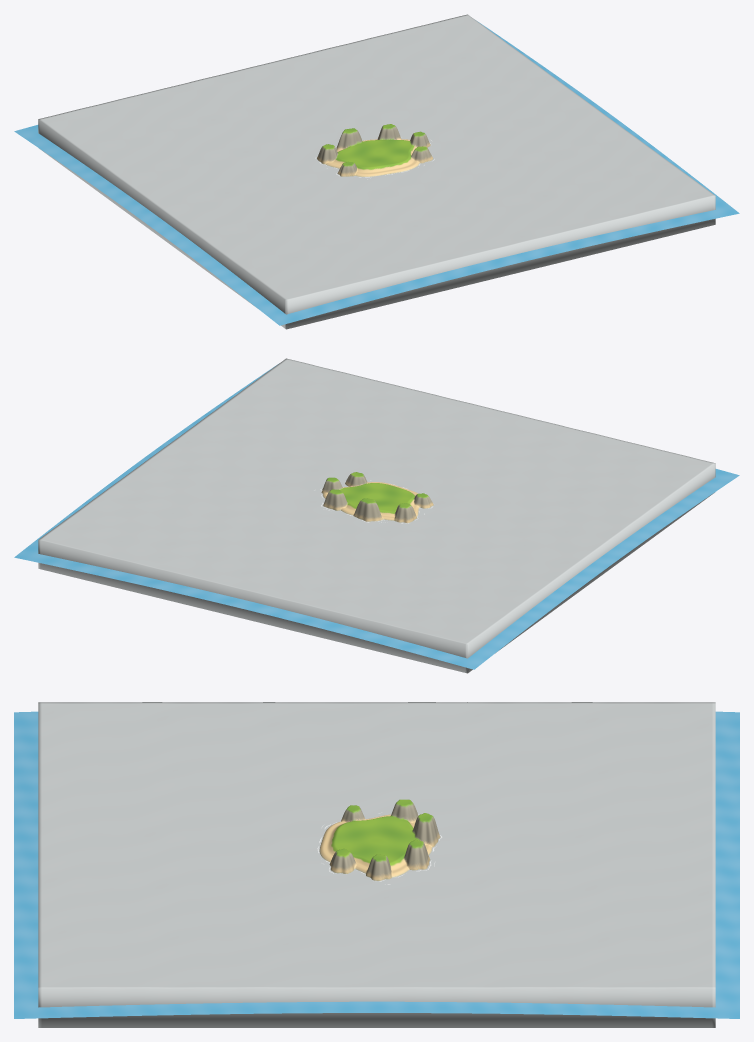
The model's file is island.glb.
3 renders of one model, top to bottom at view 1: azimuth 30°, elevation 25°; view 2: azimuth 150°, elevation 25°; view 3: azimuth 270°, elevation 25°, orthographic. The views are drawn at different scales.
Parts seen in each view (by area): view 1: Clear_Ocean, Sand_Seafloor, Island_Terrain; view 2: Clear_Ocean, Sand_Seafloor, Island_Terrain; view 3: Clear_Ocean, Sand_Seafloor, Island_Terrain.
Part boxes in pixels (<box>): Clear_Ocean: <box>38,14,715,329</box>; Sand_Seafloor: <box>14,21,739,325</box>; Island_Terrain: <box>317,124,433,176</box>; Clear_Ocean: <box>38,358,715,673</box>; Sand_Seafloor: <box>14,364,739,669</box>; Island_Terrain: <box>321,472,433,523</box>; Clear_Ocean: <box>38,702,715,1027</box>; Sand_Seafloor: <box>14,711,739,1018</box>; Island_Terrain: <box>319,799,440,880</box>.
Bounding box in the file's own units: 150 × 14 × 150.
